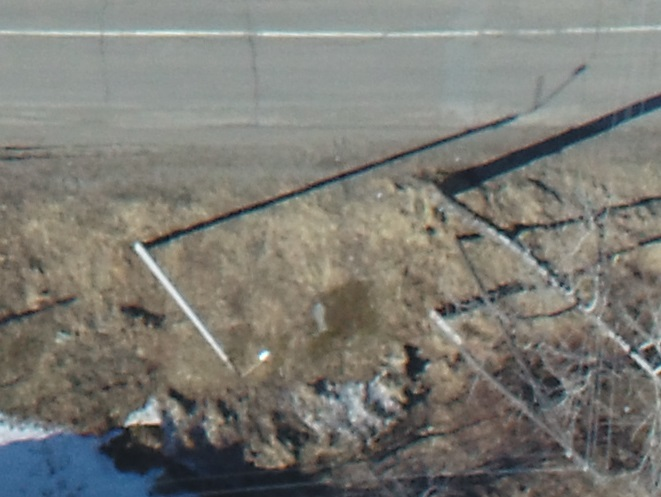opora: (133, 204, 291, 381)
